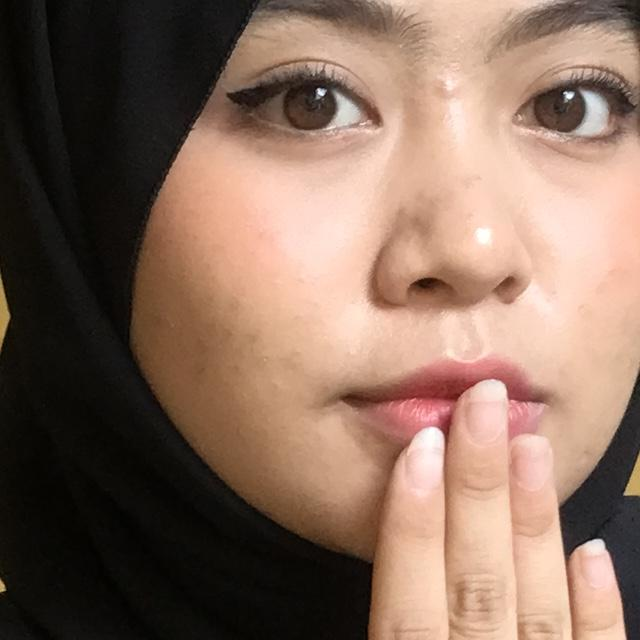ganteng: (100, 346, 640, 640)
